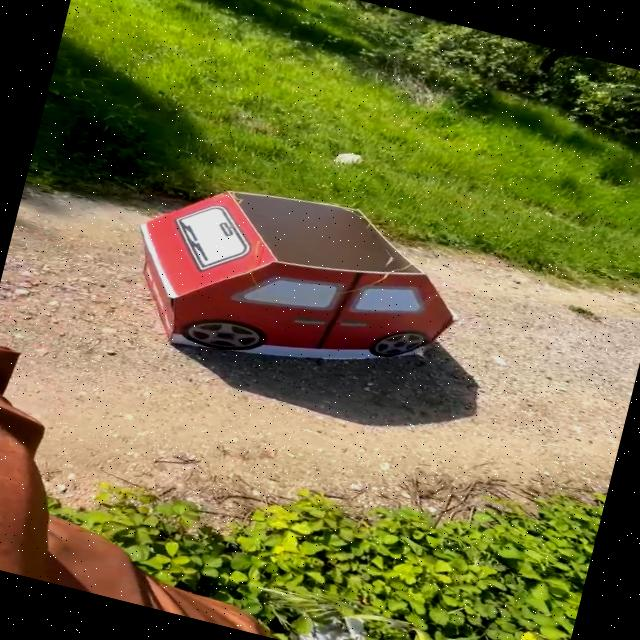red_car: (73, 132, 531, 450)
